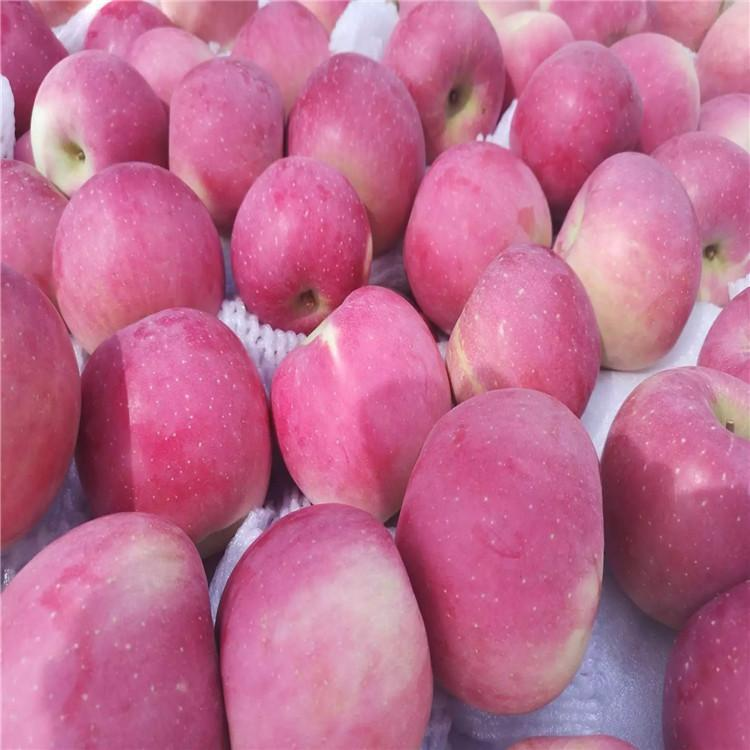apple: (398, 391, 602, 716), (216, 500, 431, 747), (1, 514, 220, 745), (75, 308, 269, 561), (270, 281, 452, 519), (597, 366, 749, 629), (47, 162, 230, 362), (553, 144, 702, 371), (402, 139, 552, 334), (442, 244, 605, 421), (288, 53, 426, 259), (229, 151, 373, 333), (507, 38, 642, 232), (1, 258, 80, 549), (30, 50, 169, 196), (168, 58, 284, 230), (383, 5, 506, 159), (651, 134, 750, 309)
